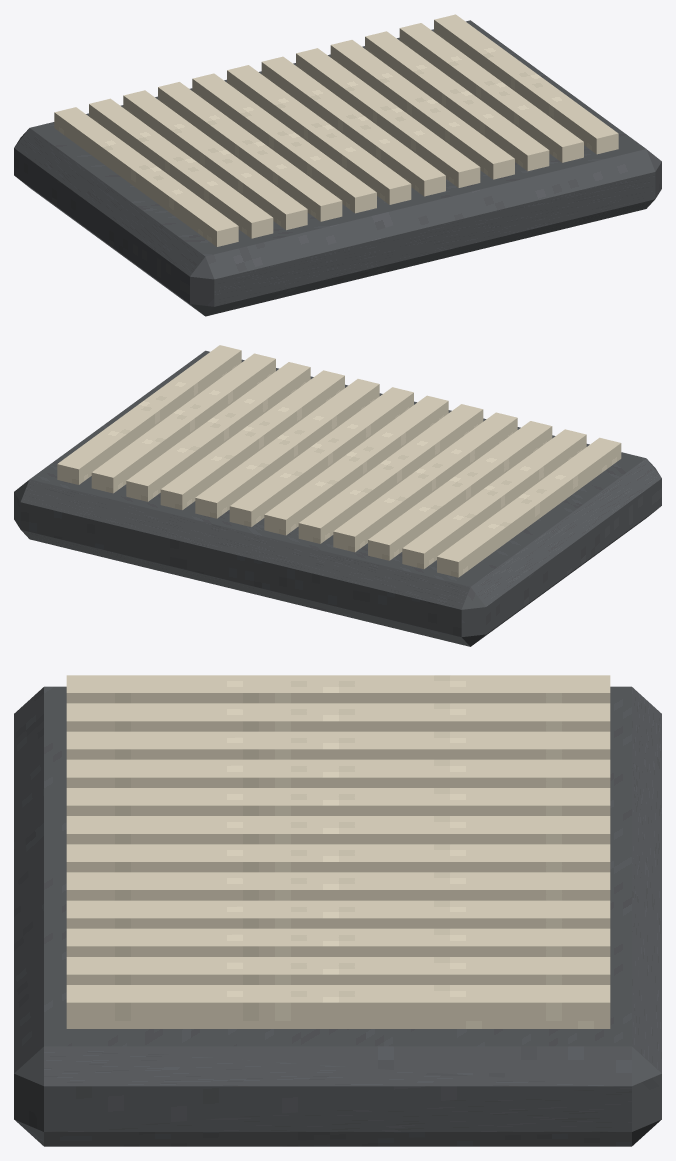
File: filter_air.glb
3 renders of one model, top to bottom at view 1: azimuth 30°, elevation 25°; view 2: azimuth 150°, elevation 25°; view 3: azimuth 270°, elevation 25°, orthographic. The views are drawn at different scales.
Parts seen in each view (by area): view 1: block_pleated filter paper (×12), block_molded filter frame; view 2: block_pleated filter paper (×12), block_molded filter frame; view 3: block_pleated filter paper (×12), block_molded filter frame.
Boxes of the visible parts, left/top/right/bottom form: block_pleated filter paper (×12): left=54, top=14, right=618, bottom=246; block_molded filter frame: left=14, top=20, right=661, bottom=316; block_pleated filter paper (×12): left=57, top=345, right=621, bottom=577; block_molded filter frame: left=14, top=350, right=661, bottom=646; block_pleated filter paper (×12): left=66, top=675, right=610, bottom=1028; block_molded filter frame: left=14, top=686, right=661, bottom=1146.
Bounding box in the file's own units: 0.1508 × 0.0231 × 0.1072.
Materials: 1 (1 with a texture image).
